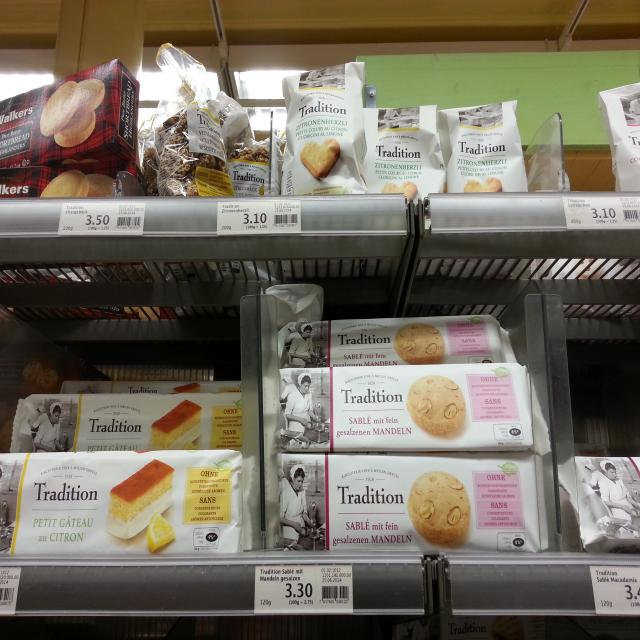Biscuits: (269, 454, 550, 554), (0, 447, 251, 558), (271, 366, 536, 456), (0, 58, 140, 165), (10, 394, 242, 456), (151, 39, 234, 200), (277, 61, 370, 195), (276, 315, 516, 365), (440, 99, 528, 192), (364, 105, 446, 194)
